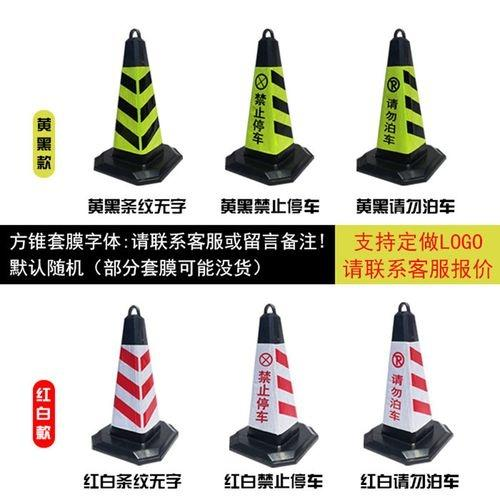cone_barrel: (229, 305, 313, 463), (363, 303, 448, 457), (228, 28, 309, 177), (97, 30, 176, 179), (359, 30, 440, 171), (99, 304, 172, 453)
